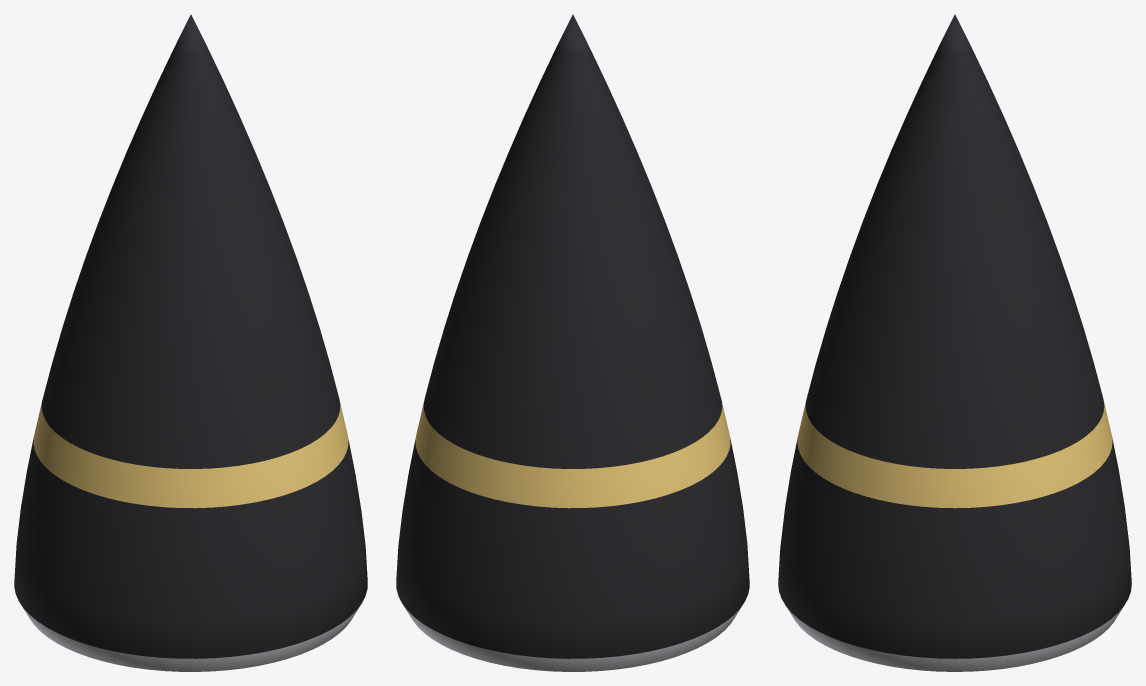
File: warhead_s.glb
3 views of the same model, side by side, from view 1: azimuth 30°, elevation 25°; view 2: azimuth 150°, elevation 25°; view 3: azimuth 270°, elevation 25° (orthographic).
Parts seen in each view (by area): view 1: warhead_s; view 2: warhead_s; view 3: warhead_s.
Boxes of the visible parts, box(x1,y1,x2,y2) form: warhead_s: box(14, 14, 367, 671); warhead_s: box(396, 14, 749, 671); warhead_s: box(778, 14, 1131, 671).
Bounding box in the file's own units: 0.6 × 1.1 × 0.6.
